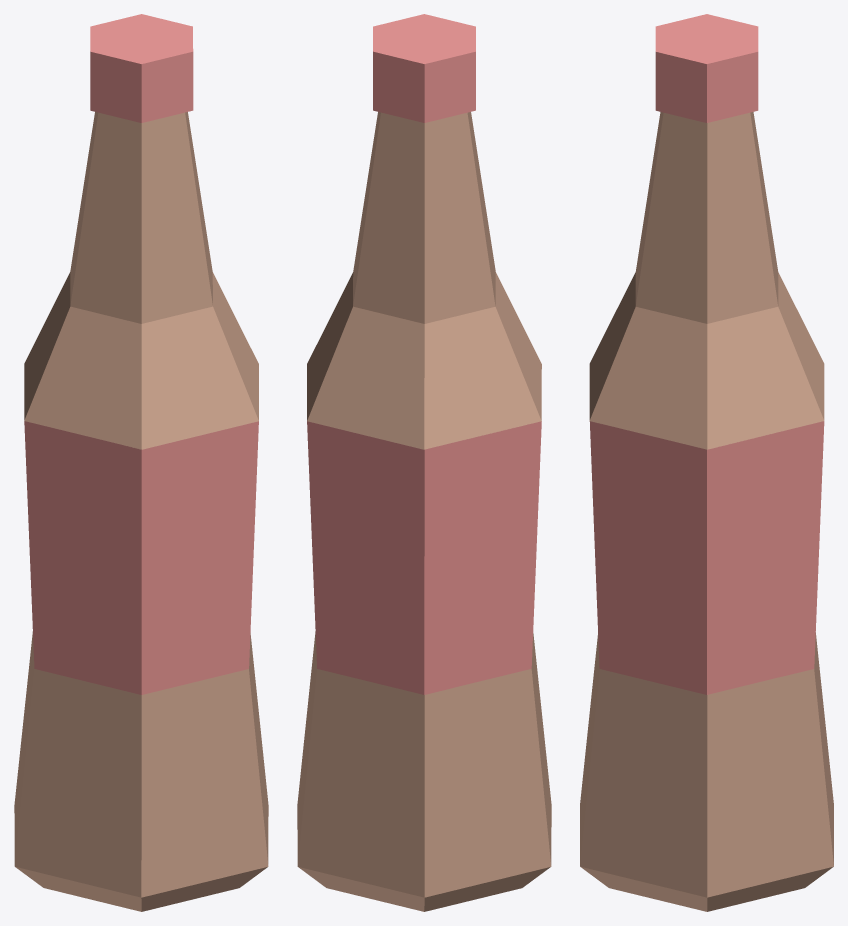
The model's file is bottle.gltf.
3 renders of one model, left to right at view 1: azimuth 30°, elevation 25°; view 2: azimuth 150°, elevation 25°; view 3: azimuth 270°, elevation 25°, orthographic.
Visible parts, largest first — view 1: sodaBottle; view 2: sodaBottle; view 3: sodaBottle.
Boxes of the visible parts, x1,y1,x2,y2 form: sodaBottle: (14, 14, 268, 911); sodaBottle: (297, 14, 551, 911); sodaBottle: (580, 14, 833, 911).
Bounding box in the file's own units: 0.1805 × 0.5604 × 0.1564.
